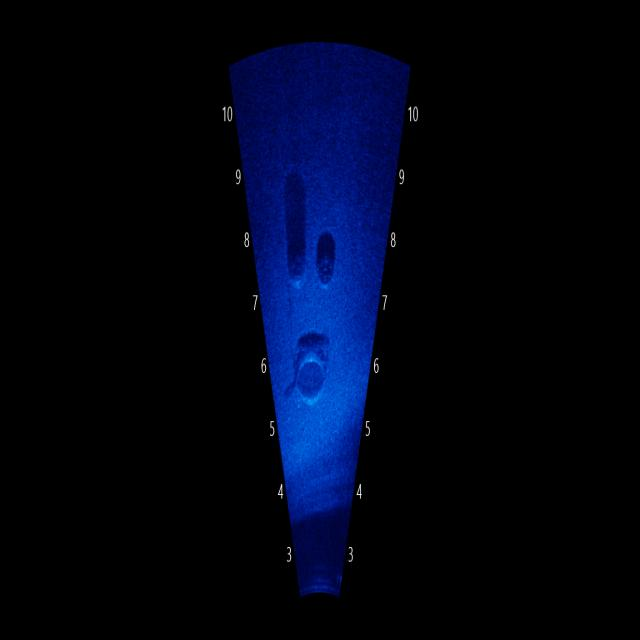circle: (291, 349, 332, 411), (315, 246, 336, 296)
